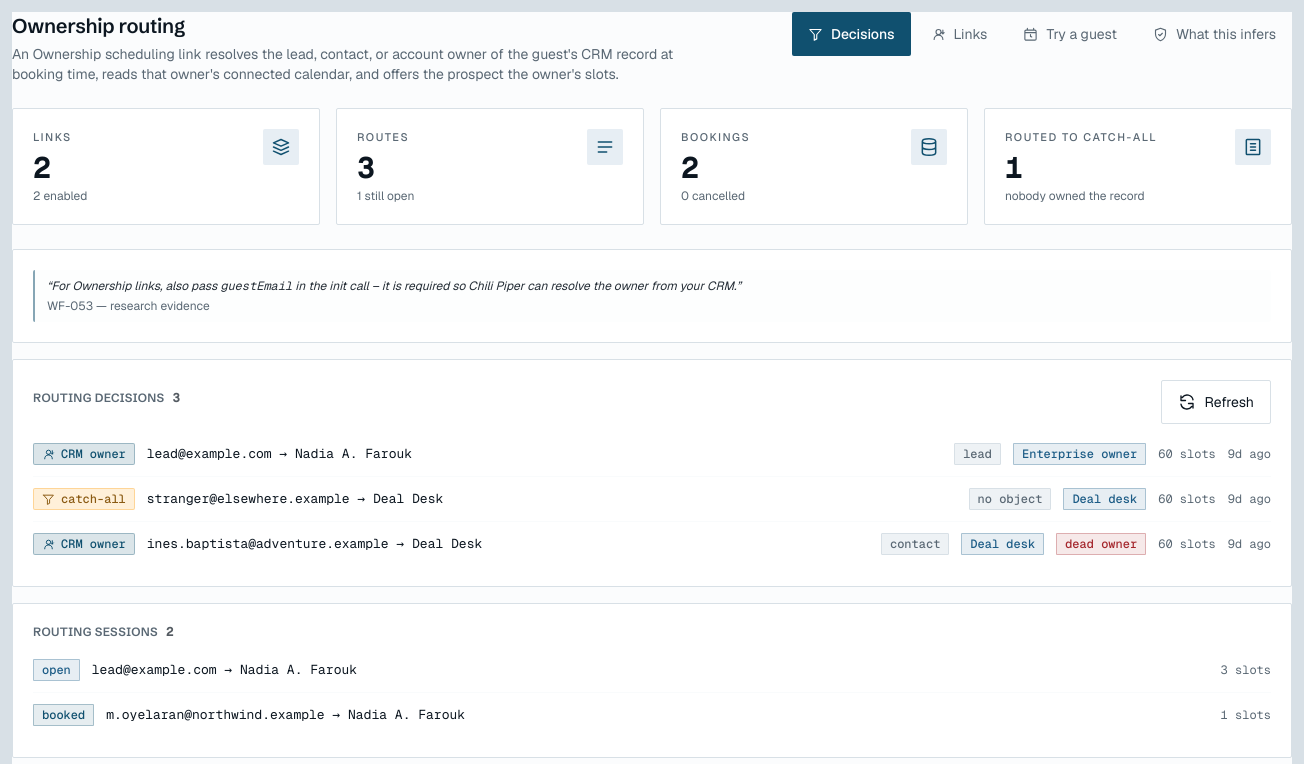
Scenario: routing decisions › expands a row to the rule chain that produced it
Check: the text "Routing decisions" is shown, box [33, 390, 164, 406]
Click the button named "Routing decision: lead@example.com, routed to Nadia A. Farouk". click: (84, 454)
box: [33, 432, 1271, 476]
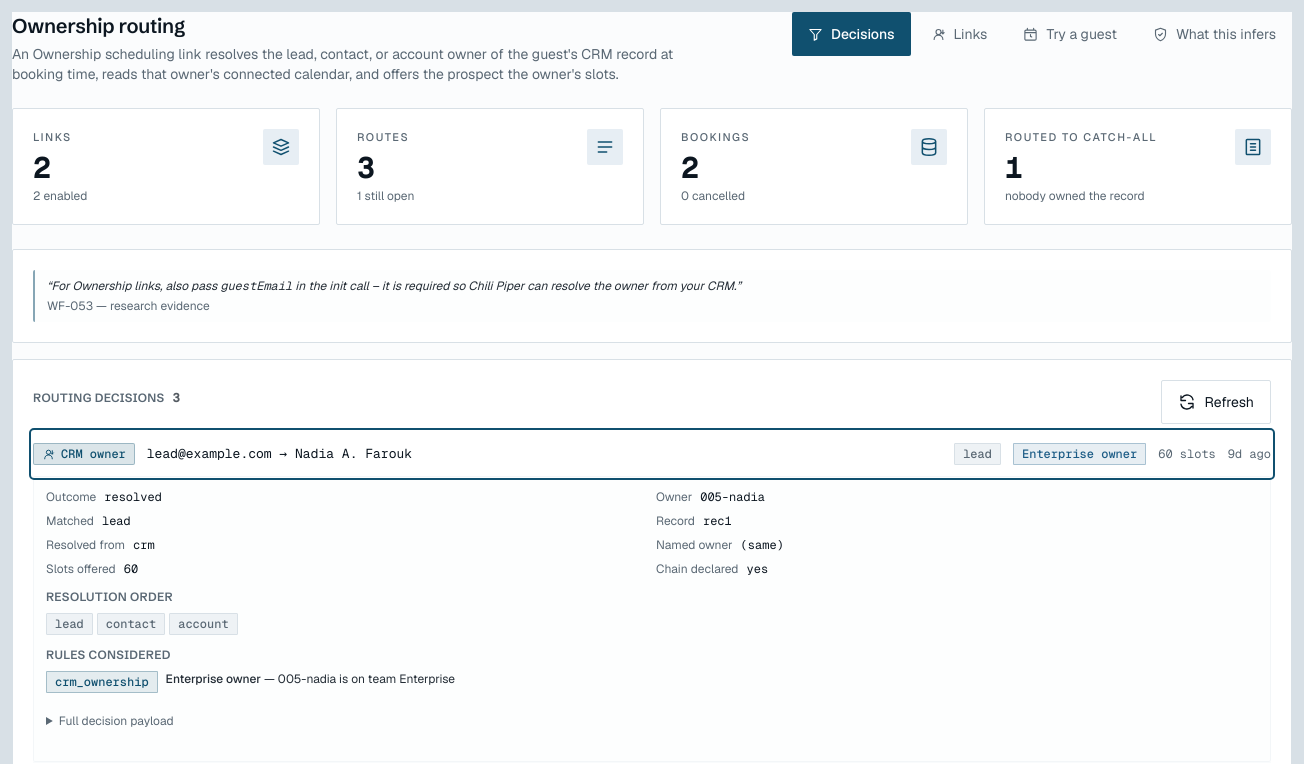
Check: the heading "Rules considered" is shown, box [46, 647, 171, 662]
Check: the list item that starts with "crm_ownership" shows "Enterprise owner", box [166, 671, 261, 687]
Check: the list item that starts with "crm_ownership" shows "005-nadia is on team Enterprise", box [261, 671, 455, 687]
